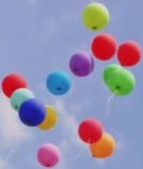Balloon: (83, 3, 110, 32), (116, 39, 143, 66), (19, 98, 45, 126), (109, 68, 135, 95), (90, 133, 115, 158), (92, 34, 116, 60), (46, 72, 71, 96), (69, 53, 95, 75), (80, 119, 102, 143), (37, 143, 59, 167)
